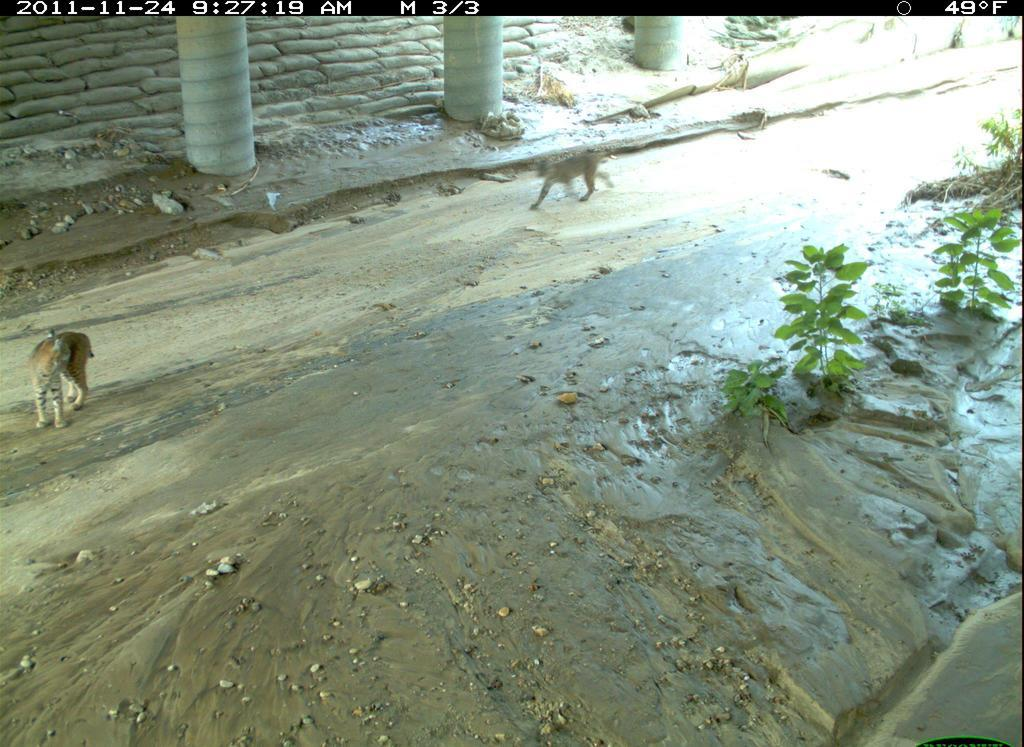bobcat: (514, 140, 625, 222), (27, 328, 104, 440)
